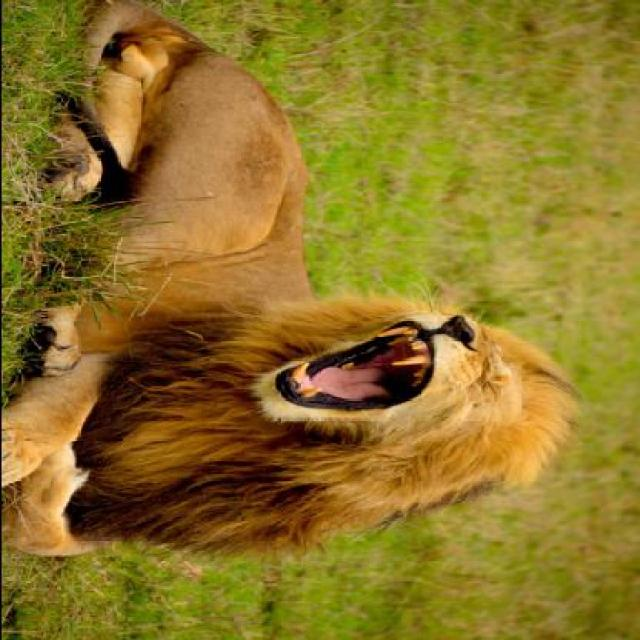Lion: (1, 4, 598, 578)
